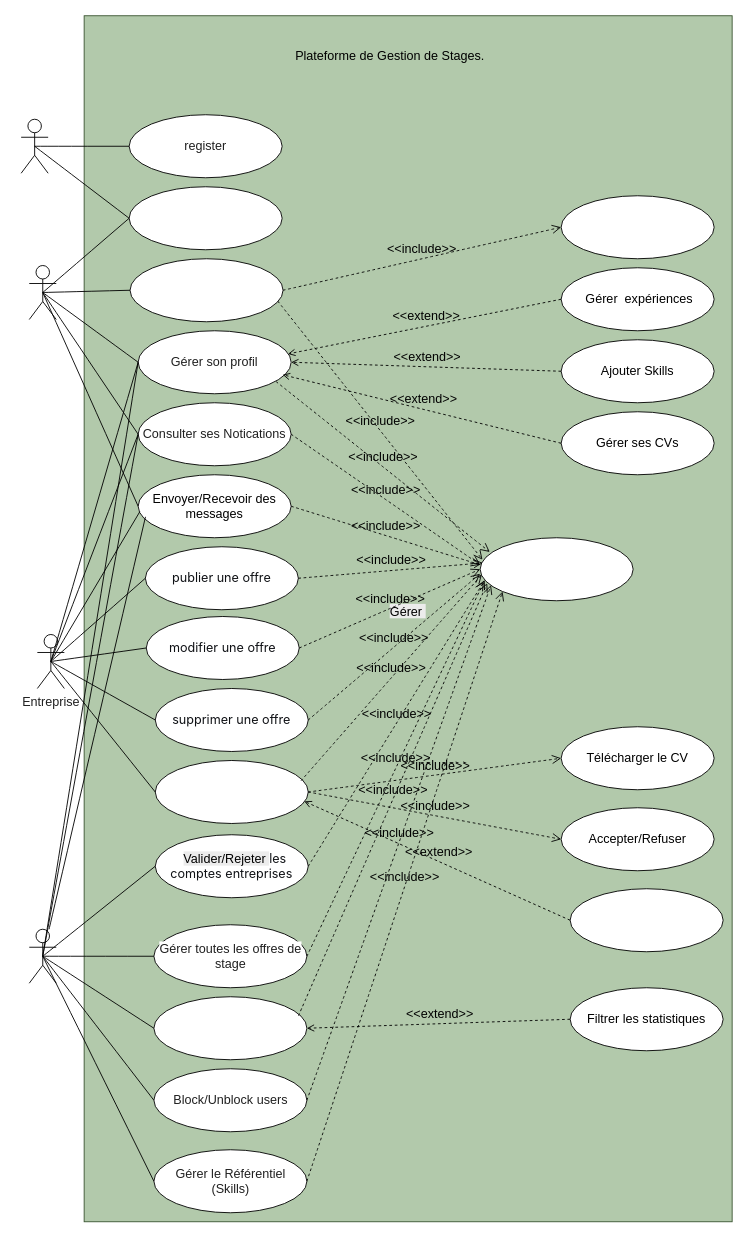
The diagram is 748 pixels wide and 1238 high, and some of its shapes have lost their labels. Here are the shapes that lost their labels. From the top down, the centre of each, then its label:
At pixel 34 145: "visiteur".
At pixel 205 218: "Consulter la liste des offres de stage".
At pixel 637 227: "Sélectionner un CV".
At pixel 42 292: "Étudiant".
At pixel 206 290: "Postuler à une offre".
At pixel 556 569: "Authentification".
At pixel 231 792: "Traiter une candidature".
At pixel 646 920: "Contacter l'étudiant".
At pixel 42 955: "Admin".
At pixel 230 1028: "Consulter les statistiques".
